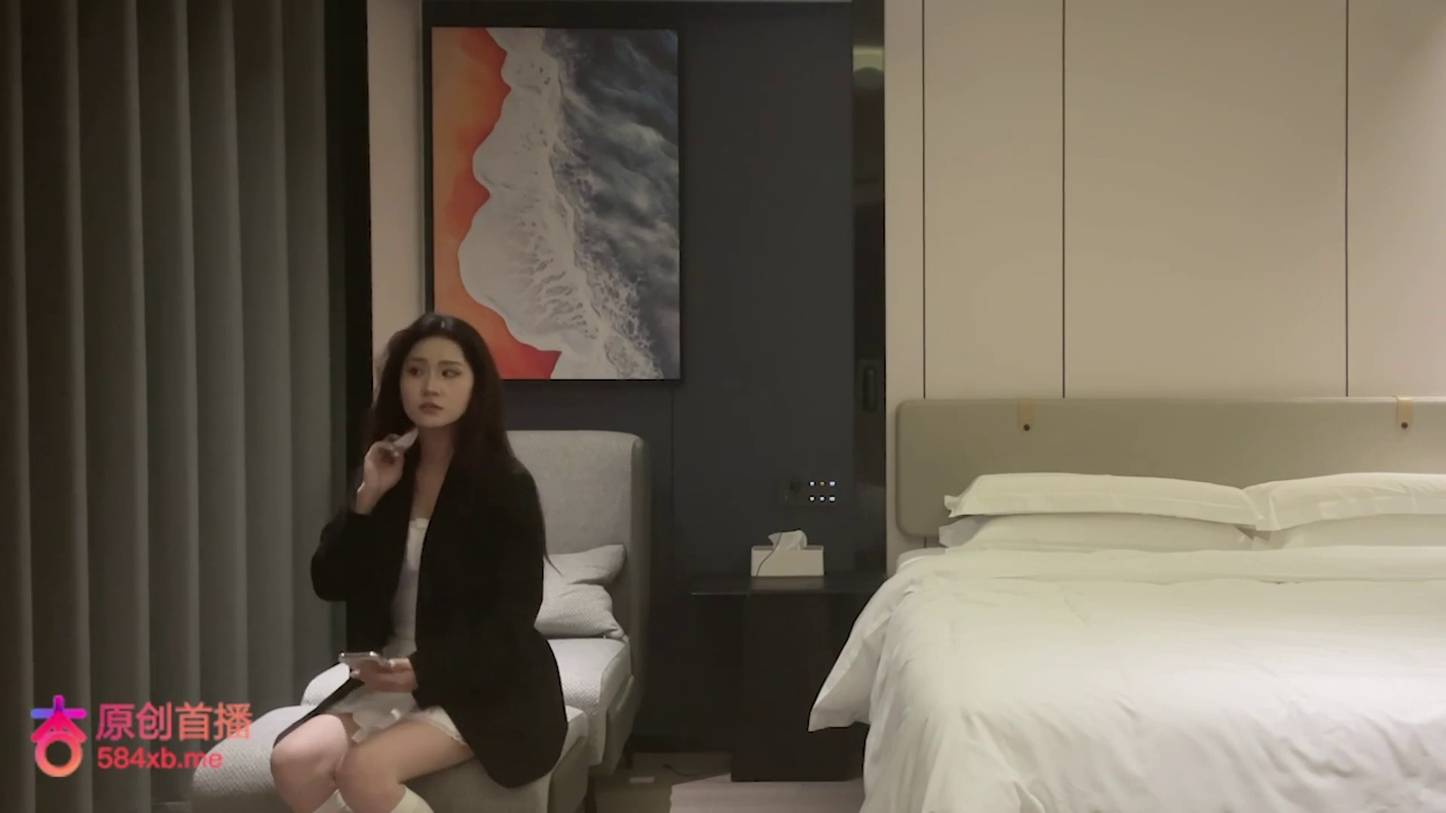sit: (270, 309, 569, 809)
